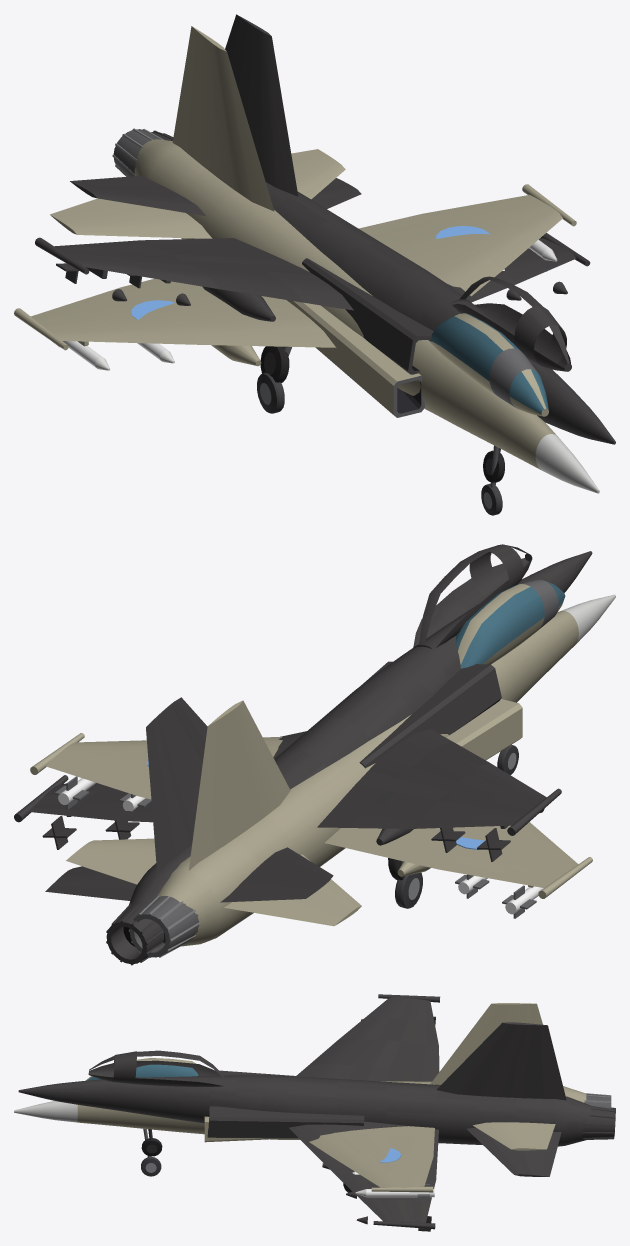
Rendered from jf17__jf_17_thunder.glb.
The picture shows the model from 3 angles, top to bottom: view 1: azimuth 30°, elevation 25°; view 2: azimuth 150°, elevation 25°; view 3: azimuth 270°, elevation 25°; orthographic projection. The views are drawn at different scales.
Parts seen in each view (by area): view 1: Fuselage_Mesh, Wreck; view 2: Fuselage_Mesh, Wreck; view 3: Wreck, Fuselage_Mesh.
Part boxes in pixels (box(x1,y1,x2,y2)): Fuselage_Mesh: box(14, 26, 599, 515); Wreck: box(35, 14, 615, 482); Fuselage_Mesh: box(30, 579, 615, 957); Wreck: box(14, 544, 592, 965); Wreck: box(18, 994, 615, 1231); Fuselage_Mesh: box(14, 1003, 611, 1201).
Size of what is drawn, in the model's own units: 9.89 by 4.77 by 15.12.
